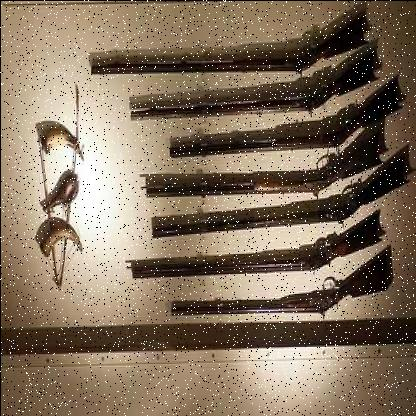rifle: (108, 200, 379, 295), (153, 246, 394, 336)
